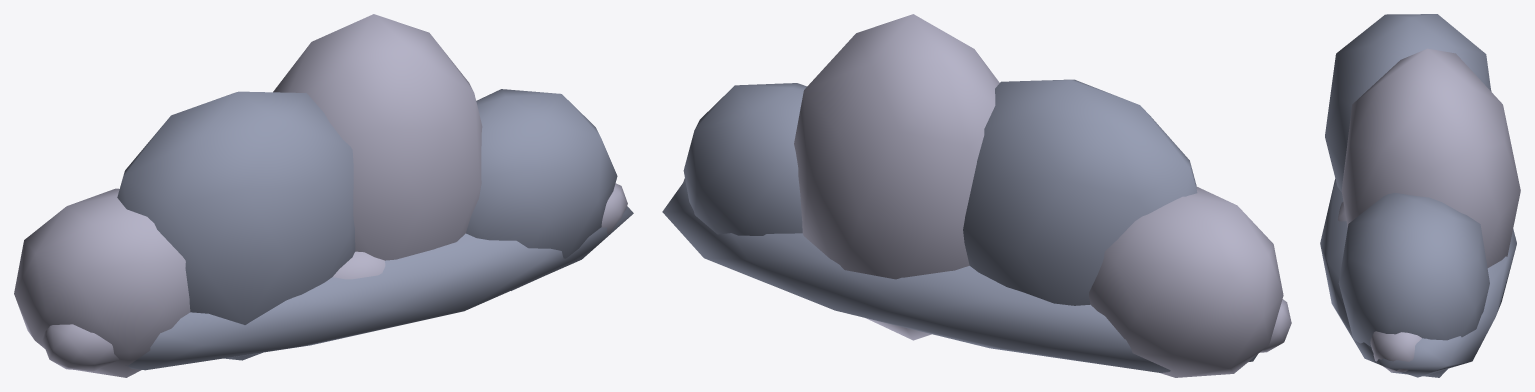
The model's file is wreck_ravine_shoulders.glb.
3 renders of one model, left to right at view 1: azimuth 30°, elevation 25°; view 2: azimuth 150°, elevation 25°; view 3: azimuth 270°, elevation 25°, orthographic. The views are drawn at different scales.
Parts seen in each view (by area): view 1: ridge_mound_1, ridge_mound_2, ridge_foot, ridge_mound_0, ridge_mound_3, ridge_lobe_0, ridge_lobe_1, ridge_lobe_2; view 2: ridge_mound_2, ridge_mound_1, ridge_mound_0, ridge_foot, ridge_mound_3, ridge_lobe_0; view 3: ridge_mound_2, ridge_mound_3, ridge_mound_1, ridge_foot, ridge_lobe_2.
Boxes of the visible parts, bbox=[...] form: ridge_mound_1: bbox=[117, 91, 355, 360]; ridge_mound_2: bbox=[273, 14, 482, 260]; ridge_foot: bbox=[125, 206, 633, 370]; ridge_mound_0: bbox=[14, 188, 190, 377]; ridge_mound_3: bbox=[466, 89, 617, 290]; ridge_lobe_0: bbox=[42, 324, 119, 371]; ridge_lobe_1: bbox=[332, 251, 385, 279]; ridge_lobe_2: bbox=[601, 183, 627, 233]; ridge_mound_2: bbox=[794, 14, 999, 340]; ridge_mound_1: bbox=[963, 79, 1197, 305]; ridge_mound_0: bbox=[1089, 186, 1283, 377]; ridge_foot: bbox=[662, 180, 1257, 372]; ridge_mound_3: bbox=[683, 83, 806, 235]; ridge_lobe_0: bbox=[1260, 299, 1291, 352]; ridge_mound_2: bbox=[1341, 48, 1520, 267]; ridge_mound_3: bbox=[1338, 193, 1489, 377]; ridge_mound_1: bbox=[1325, 14, 1491, 192]; ridge_foot: bbox=[1320, 179, 1516, 377]; ridge_lobe_2: bbox=[1370, 331, 1421, 372].
Bounding box in the file's own units: 9.39 × 4.85 × 3.1.
